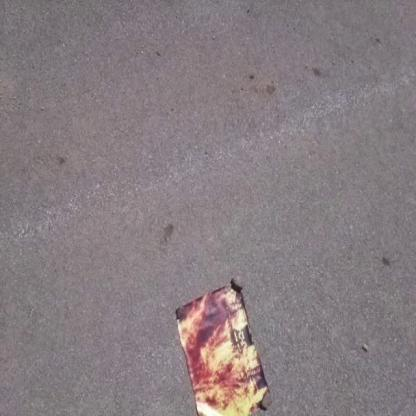fire-poster: (174, 278, 271, 415)
